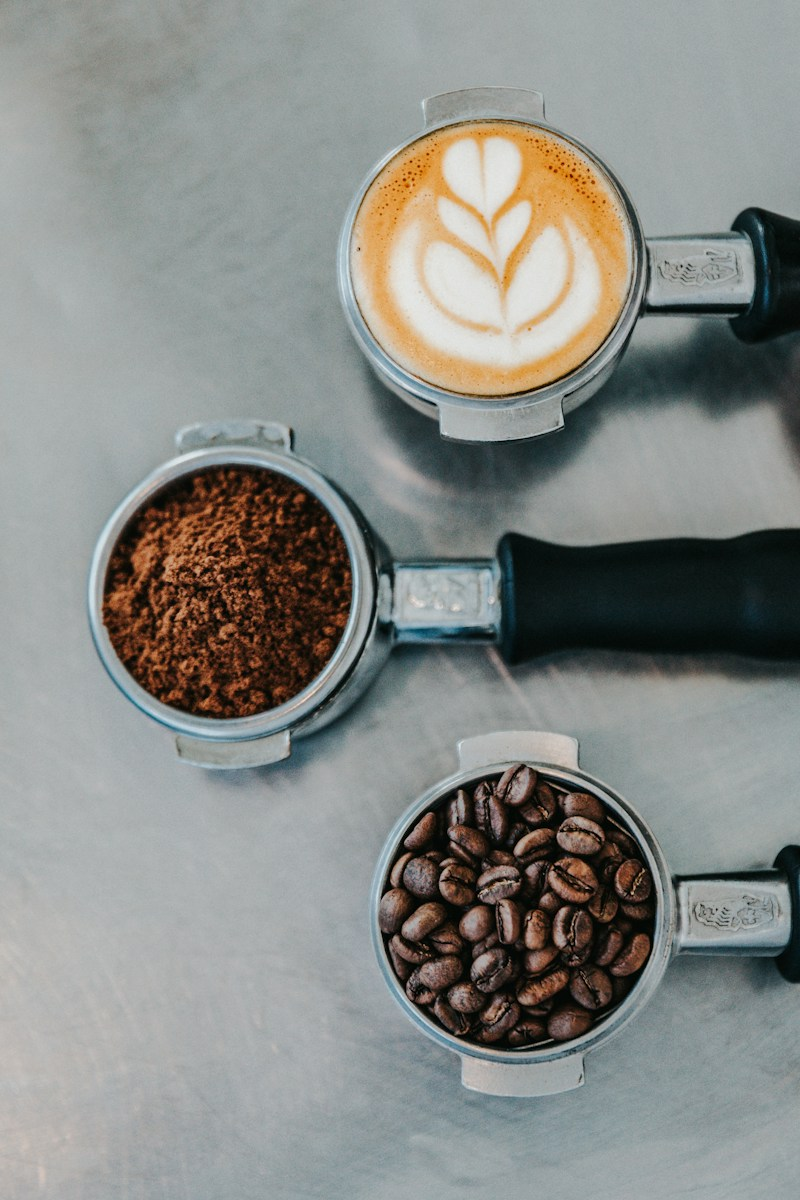cup: (335, 87, 800, 445)
